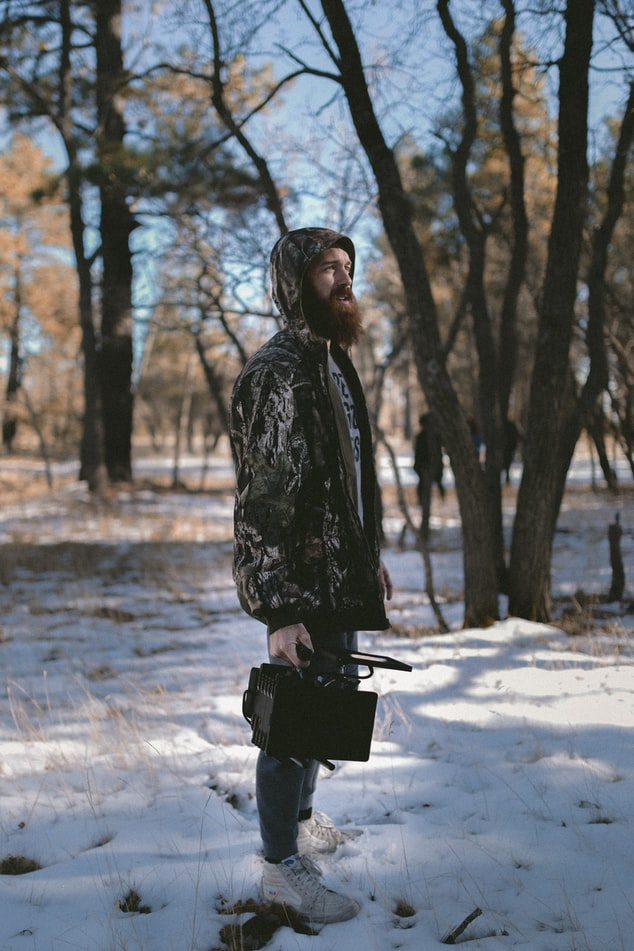beard: (300, 285, 372, 350)
